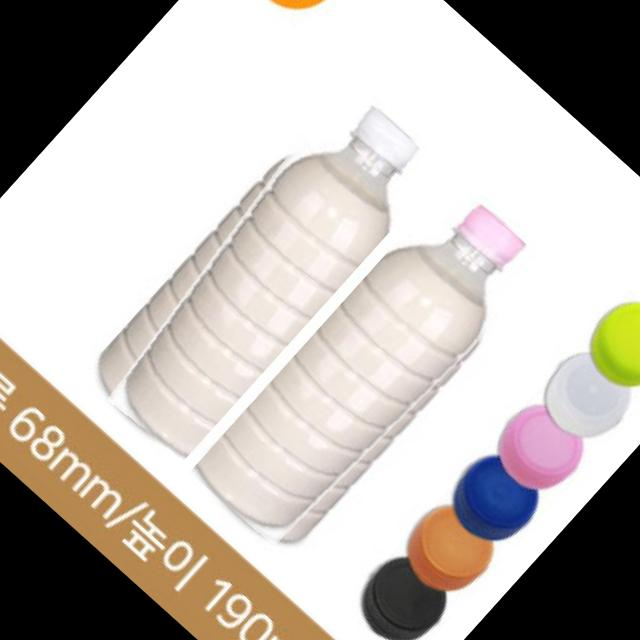plastic bottle: (78, 80, 444, 465), (188, 178, 552, 562)
